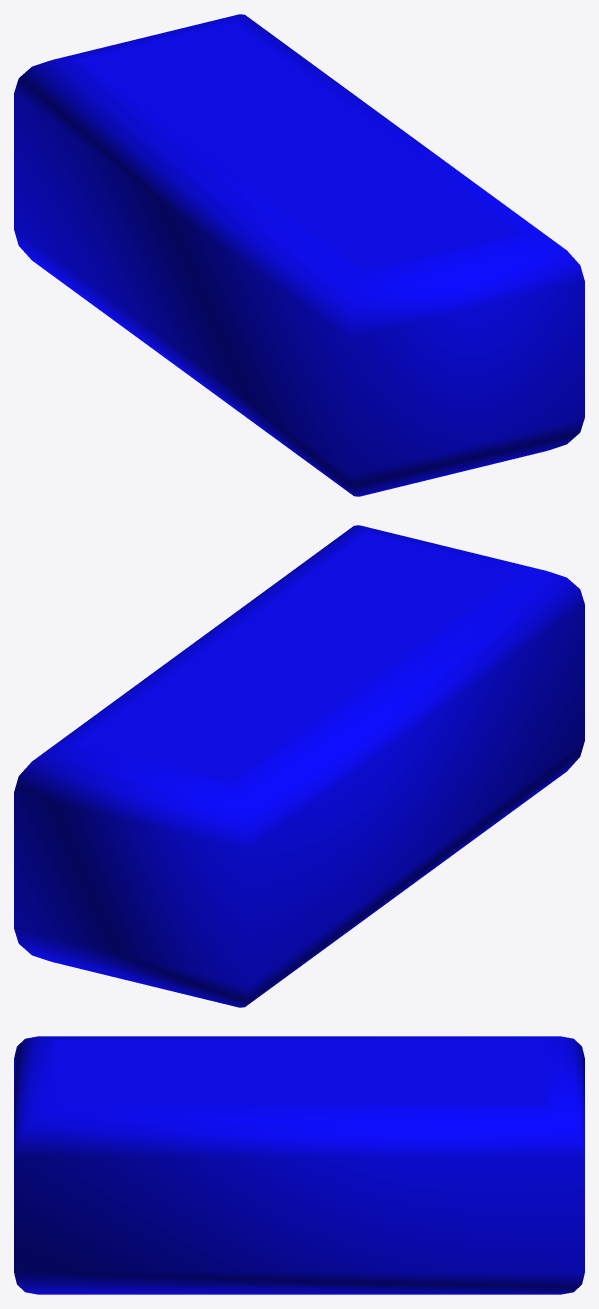
3 views of the same model, one above another, from view 1: azimuth 30°, elevation 25°; view 2: azimuth 150°, elevation 25°; view 3: azimuth 270°, elevation 25° (orthographic). The views are drawn at different scales.
Parts seen in each view (by area): view 1: 39; view 2: 39; view 3: 39.
Boxes of the visible parts, x1,y1,x2,y2 form: 39: (14,14,584,496); 39: (14,525,584,1007); 39: (14,1036,584,1294).
Bounding box in the file's own units: 0.1811 × 0.16 × 0.4464.
